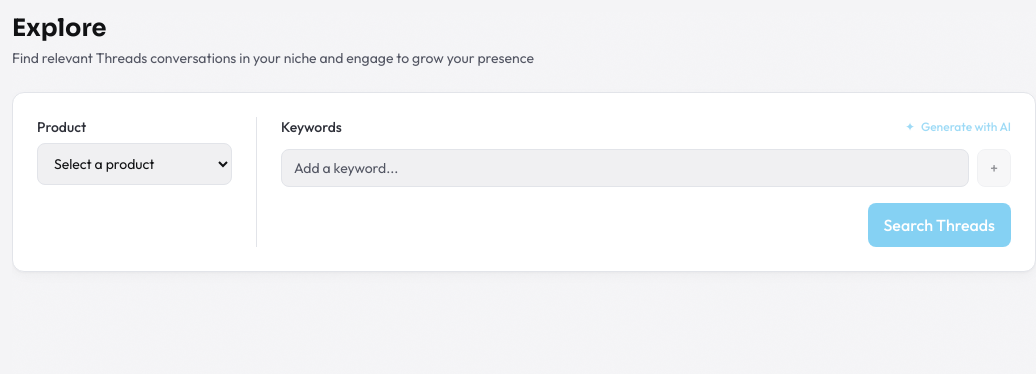
it: ExploreClient › after search with 0 results › renders "No results found" message when search returns empty
Select "My SaaS" in the dropdown labelled "Product" at x=134, y=164, box [37,143,232,185]
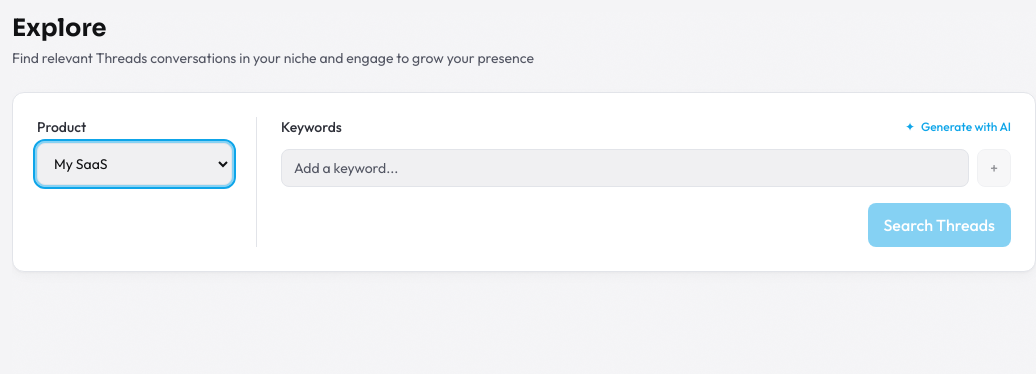
Click the button "✦ Generate with AI" at x=958, y=127, box [905,119,1011,135]
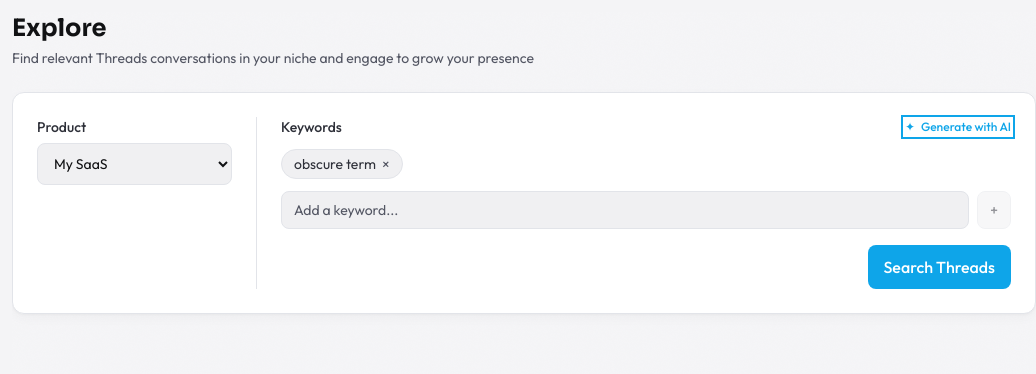
Expected: the text "obscure term" is shown, [294,155,376,173]
Click the button "Search Threads" at x=939, y=267, box [868,245,1011,289]
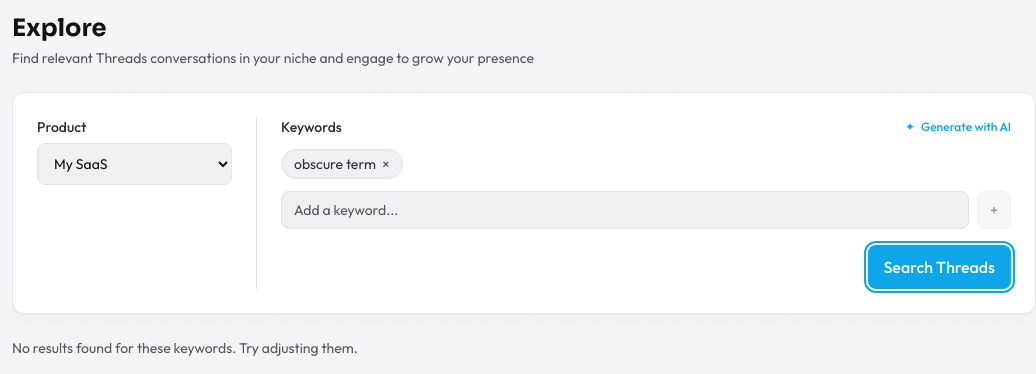
Expected: the text "No results found for these keywords. Try adjusting them." is shown, [12,339,358,357]
